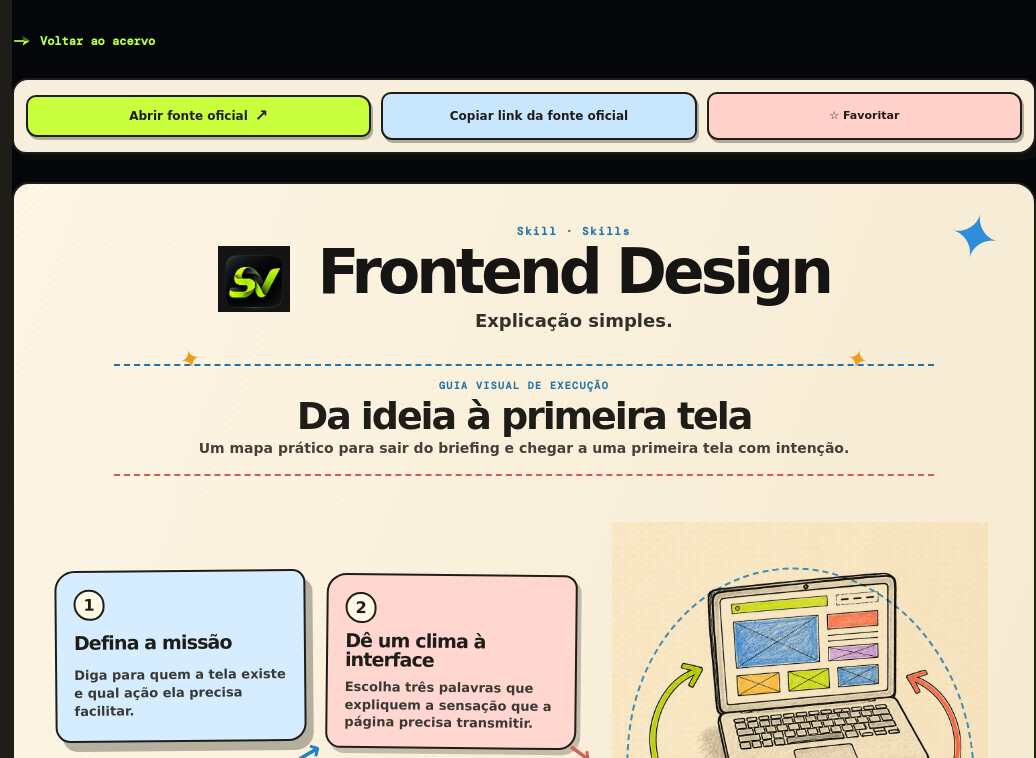
Scenario: turns Frontend Design into a hand-drawn interactive guide with clear actions
The width and height of the screenshot is (1036, 758).
Expected: the heading "Frontend Design" is shown, [318,242,830,302]
Expected: the text "Explicação simples." is shown, [475,310,673,331]
Click the button "Dê um clima à interface".
click(451, 662)  # box [325,573,578,751]
(page scrolled)
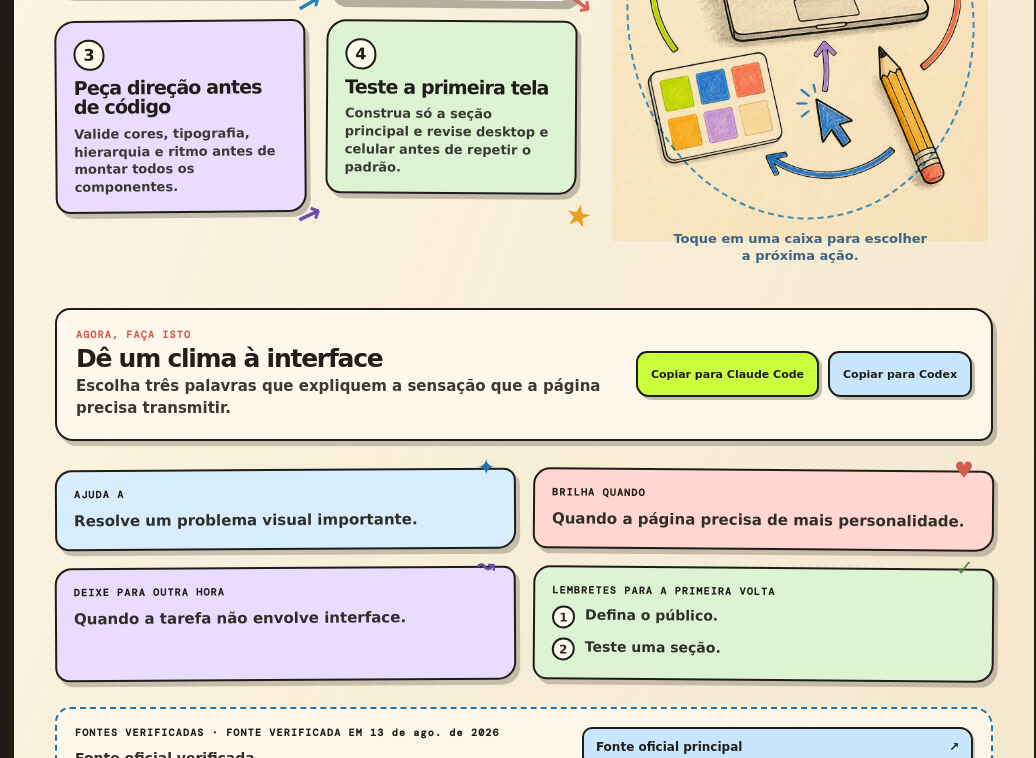
Result: the button with aria-label "Copiar etapa Dê um clima à interface para Claude Code" is shown at [636,351,819,397]
Result: the button with aria-label "Copiar etapa Dê um clima à interface para Codex" is shown at [828,351,972,397]
